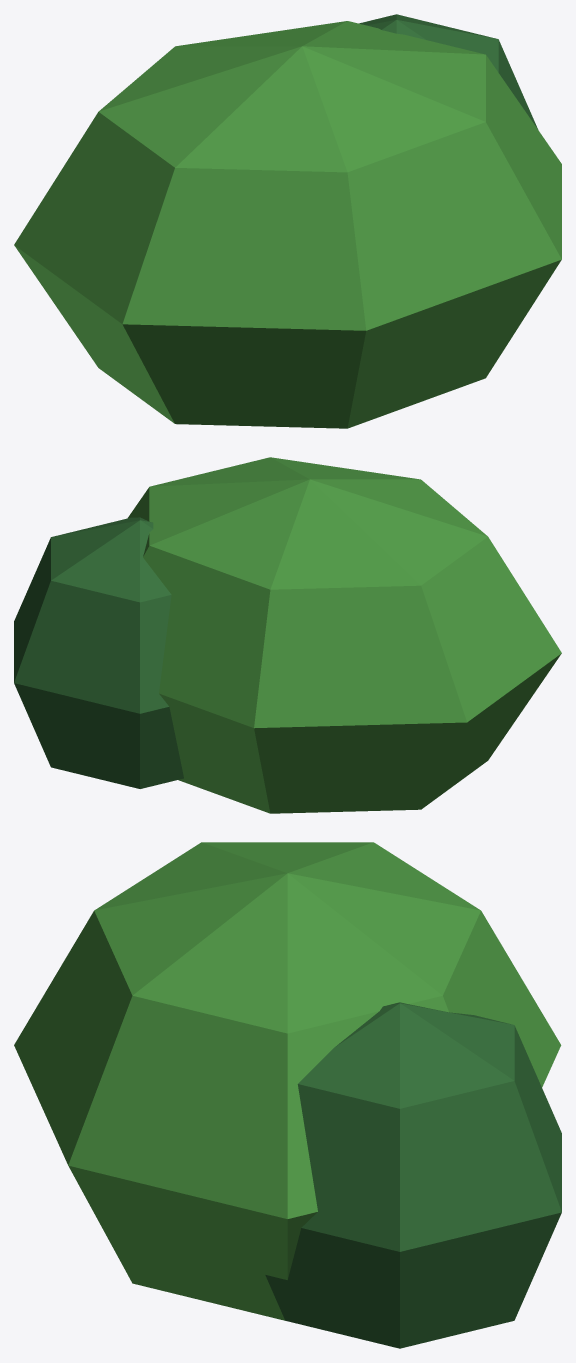
File: bush.glb
The picture shows the model from 3 angles, top to bottom: view 1: azimuth 30°, elevation 25°; view 2: azimuth 150°, elevation 25°; view 3: azimuth 270°, elevation 25°; orthographic projection. The views are drawn at different scales.
Visible parts, largest first — view 1: bush_Body; view 2: bush_Body; view 3: bush_Body.
Part boxes in pixels (x1,y1,x2,y2): bush_Body: [14, 14, 561, 428]; bush_Body: [14, 457, 561, 813]; bush_Body: [14, 842, 561, 1348].
Size of the model in its own units: 1.81 by 1.2 by 1.46.
